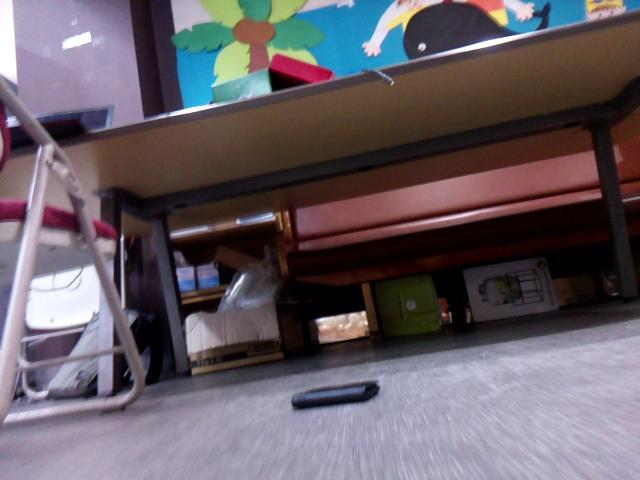wallet: (288, 379, 386, 413)
